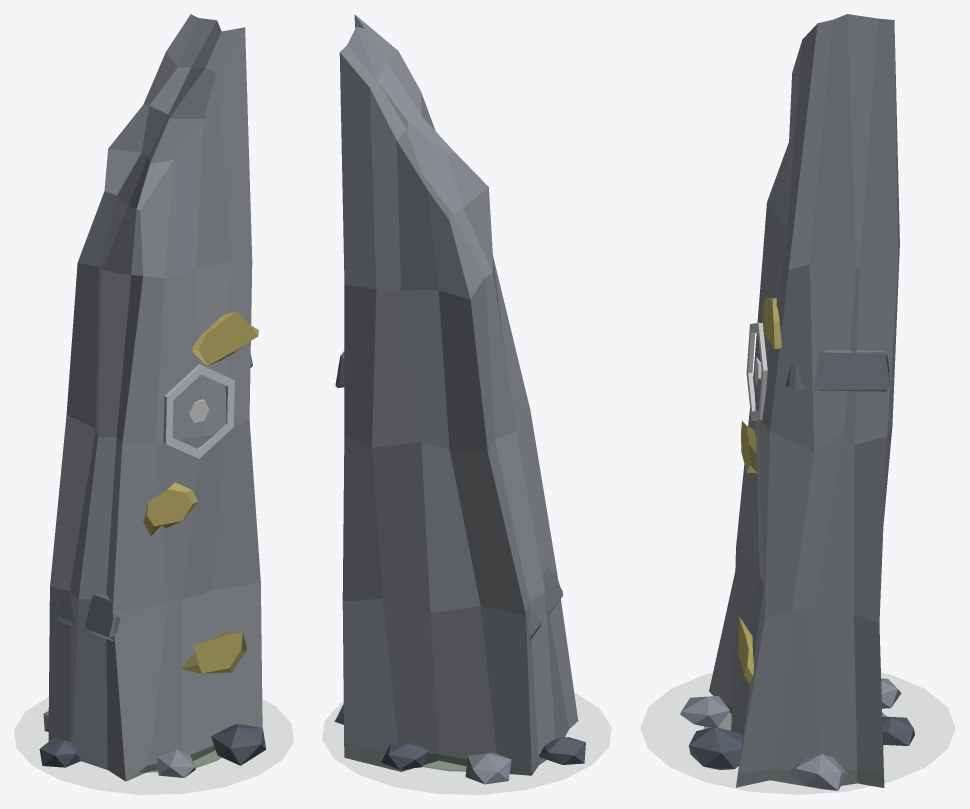
The model's file is menhir.glb.
3 views of the same model, side by side, from view 1: azimuth 30°, elevation 25°; view 2: azimuth 150°, elevation 25°; view 3: azimuth 270°, elevation 25° (orthographic). The views are drawn at different scales.
Visible parts, largest first — view 1: menhir; view 2: menhir; view 3: menhir.
Boxes of the visible parts, x1,y1,x2,y2 form: menhir: [39, 14, 266, 781]; menhir: [334, 14, 585, 784]; menhir: [680, 14, 914, 790].
Size of the model in its own units: 1 by 2.74 by 1.
